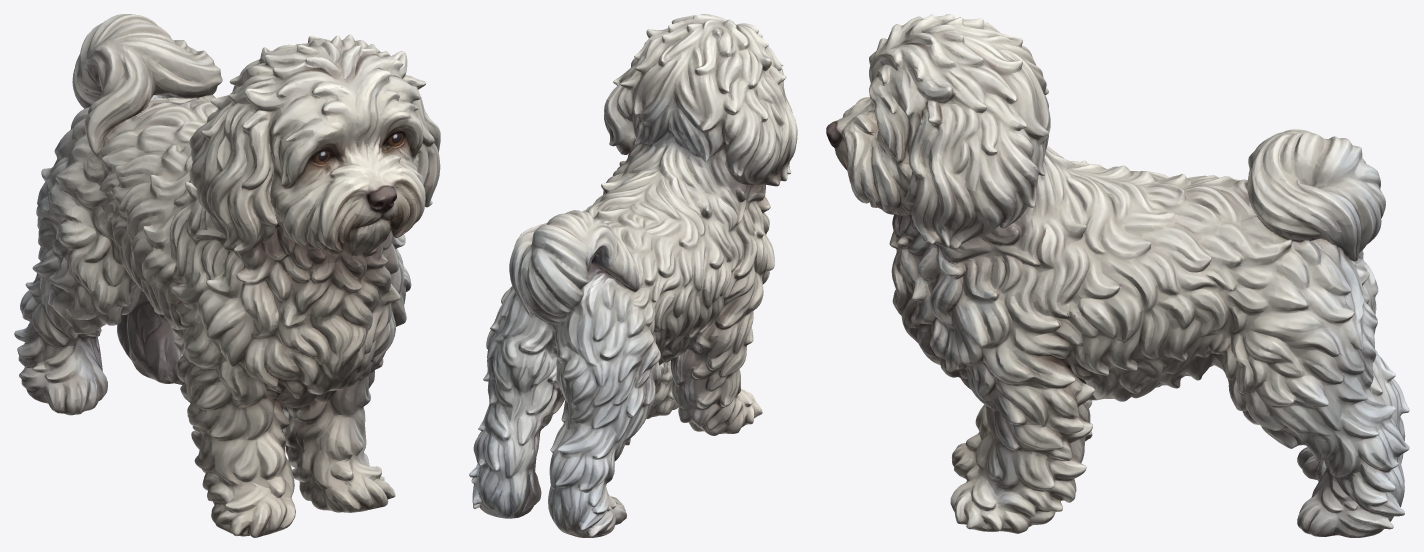
Rendered from Bolognese_Dog.glb.
3 renders of one model, left to right at view 1: azimuth 30°, elevation 25°; view 2: azimuth 150°, elevation 25°; view 3: azimuth 270°, elevation 25°, orthographic. The views are drawn at different scales.
Parts seen in each view (by area): view 1: output_unwrapped; view 2: output_unwrapped; view 3: output_unwrapped.
Boxes of the visible parts, x1,y1,x2,y2 form: output_unwrapped: [14, 14, 440, 537]; output_unwrapped: [469, 14, 797, 537]; output_unwrapped: [826, 14, 1409, 537].
Bounding box in the file's own units: 0.8295 × 1.71 × 1.9.
1 material, 1 textured.
